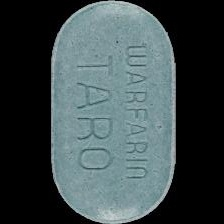51672-4033: (0, 0, 224, 224)
